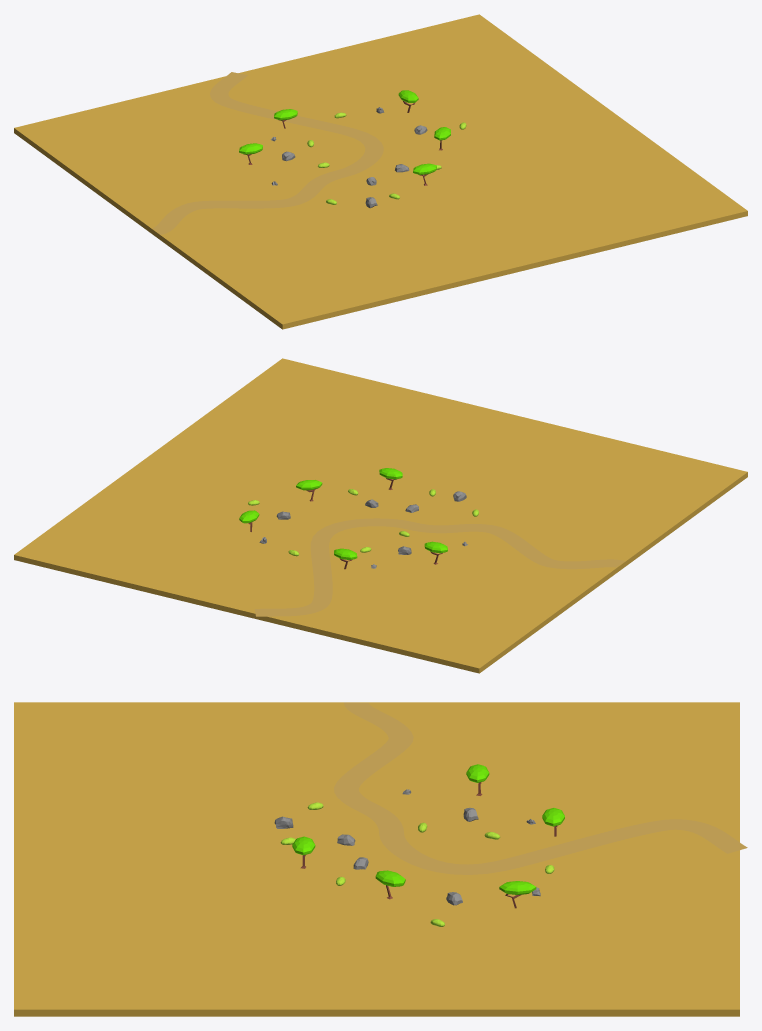
The model's file is Cursor.fbx.
The picture shows the model from 3 angles, top to bottom: view 1: azimuth 30°, elevation 25°; view 2: azimuth 150°, elevation 25°; view 3: azimuth 270°, elevation 25°; orthographic projection. The views are drawn at different scales.
Parts seen in each view (by area): view 1: Savannah Base, MainRoad; view 2: Savannah Base, MainRoad; view 3: Savannah Base, MainRoad.
Part boxes in pixels (x1,y1,x2,y2): Savannah Base: (14, 14, 747, 329); MainRoad: (152, 72, 383, 234); Savannah Base: (14, 358, 747, 673); MainRoad: (254, 518, 625, 616); Savannah Base: (14, 702, 739, 1016); MainRoad: (334, 702, 747, 874).
Bounding box in the file's own units: 302 × 15.36 × 305.
